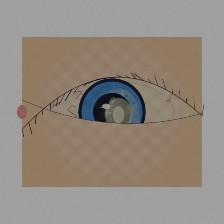corneal_ulcer: (91, 93, 147, 138)
